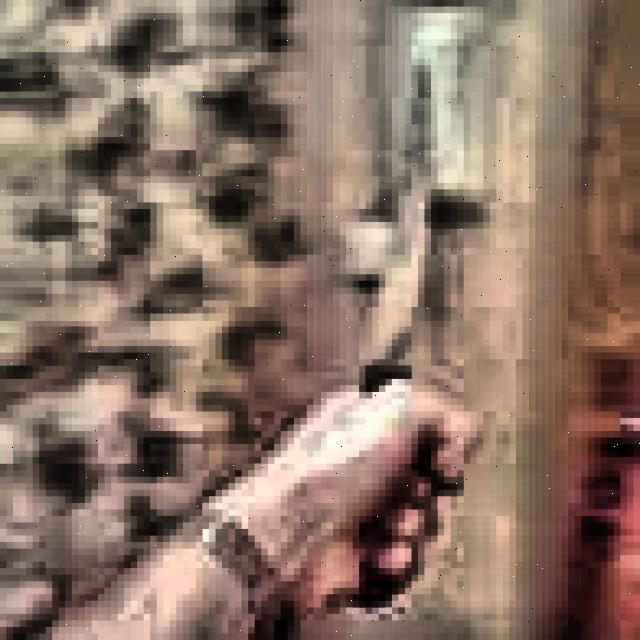knife: (352, 48, 436, 612)
